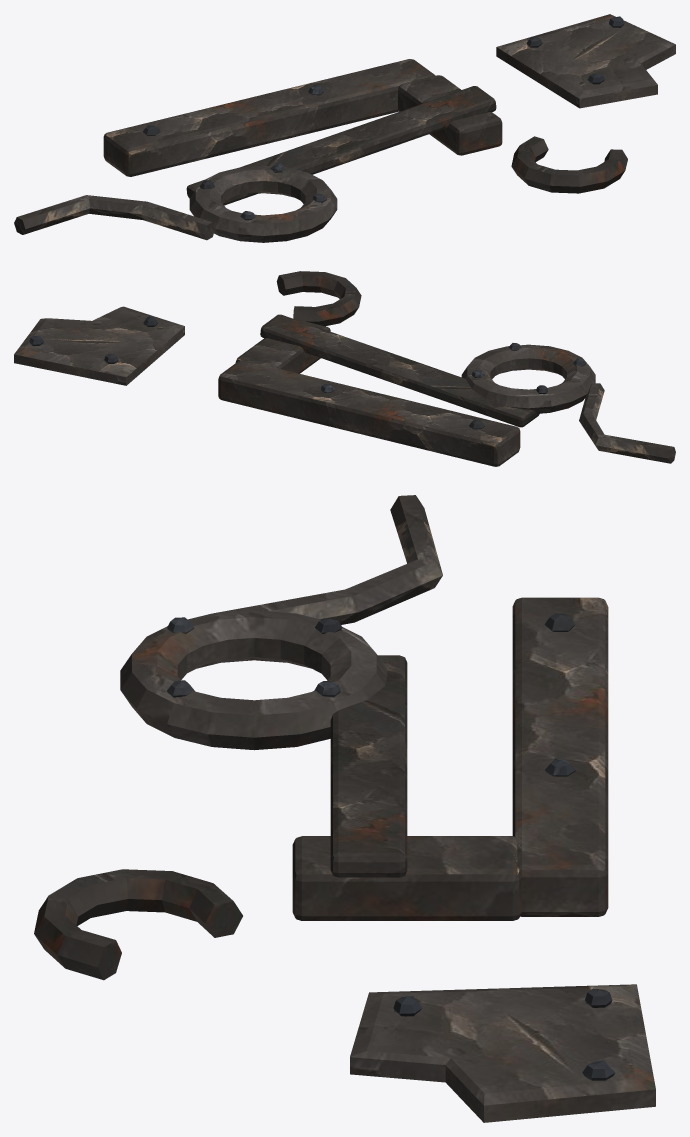
File: junk_scrap.glb
3 renders of one model, top to bottom at view 1: azimuth 30°, elevation 25°; view 2: azimuth 150°, elevation 25°; view 3: azimuth 270°, elevation 25°, orthographic. The views are drawn at different scales.
Visible parts, largest first — view 1: model; view 2: model; view 3: model.
Boxes of the visible parts, box(x1,y1,x2,y2) form: model: box(14, 14, 675, 242); model: box(14, 271, 675, 466); model: box(34, 495, 655, 1122).
Bounding box in the file's own units: 0.7411 × 0.045 × 0.3251.
4 materials, 4 textured.
